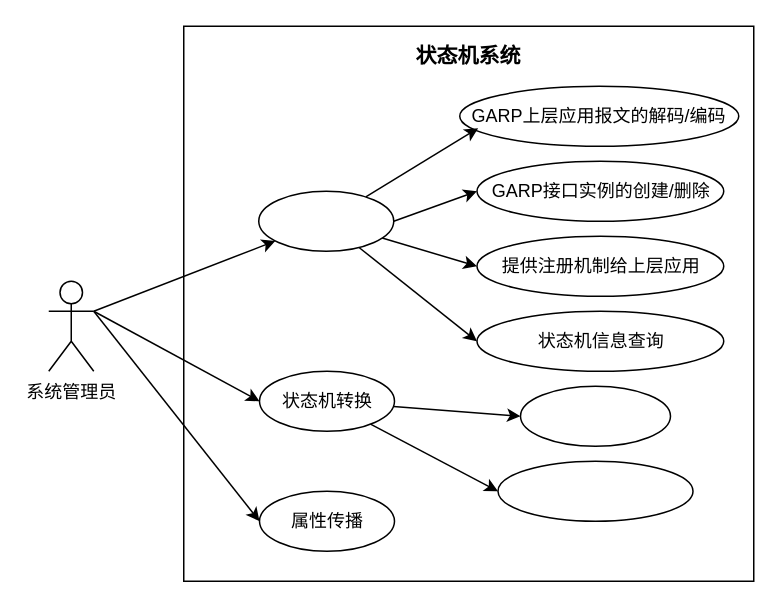
This 780x608 diagram has some shape labels left out. Each missing label, with the box of its shape:
注册者状态机: (496, 460, 693, 521)
注册解析: (257, 190, 394, 251)
申请者状态机: (519, 385, 670, 446)
